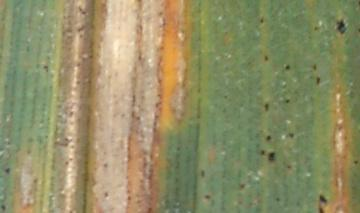tarspot: (334, 17, 350, 38), (316, 192, 330, 205), (196, 167, 209, 181), (267, 150, 278, 164), (262, 101, 273, 113), (237, 179, 247, 192), (202, 193, 214, 203), (264, 134, 275, 144), (314, 75, 323, 87), (315, 204, 327, 213), (283, 62, 294, 71), (3, 166, 12, 176), (257, 147, 266, 157), (273, 196, 282, 206), (287, 131, 296, 140), (351, 158, 360, 167), (258, 16, 266, 25), (262, 55, 271, 63), (102, 162, 110, 171), (103, 191, 111, 199), (1, 205, 8, 213), (311, 63, 318, 71), (62, 160, 71, 166), (285, 98, 291, 105)
